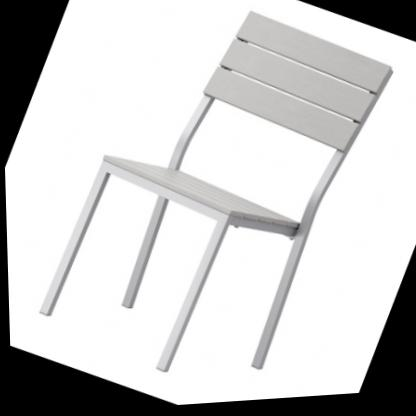Chair: (20, 0, 407, 415)
